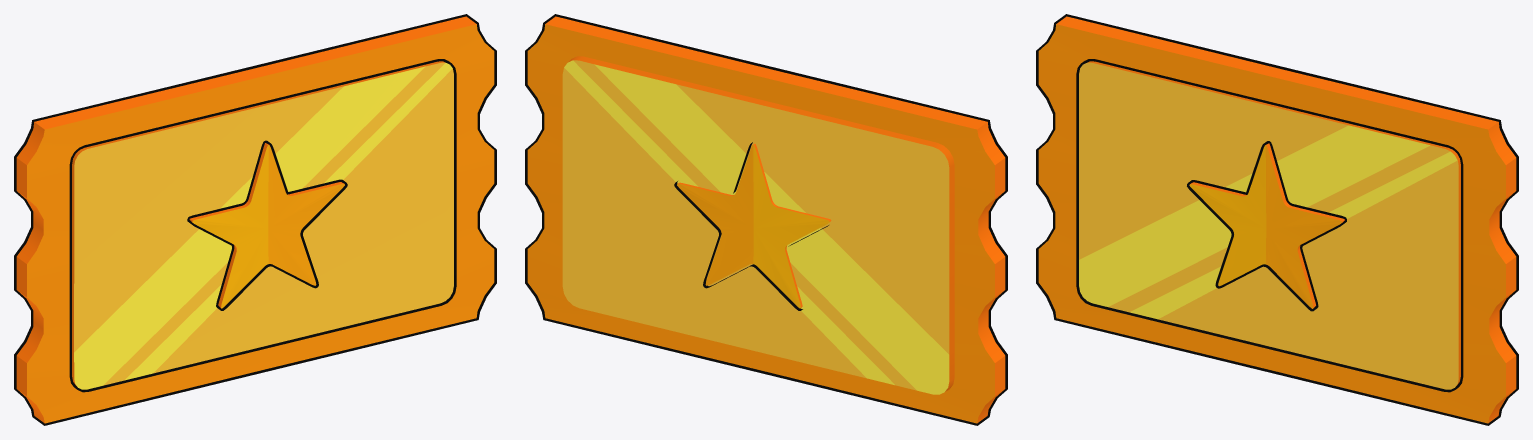
3 views of the same model, side by side, from view 1: azimuth 30°, elevation 25°; view 2: azimuth 150°, elevation 25°; view 3: azimuth 330°, elevation 25° (orthographic).
Parts seen in each view (by area): view 1: Plane_0; view 2: Plane_0; view 3: Plane_0.
Part boxes in pixels (<box>): Plane_0: <box>14,14,496,425</box>; Plane_0: <box>525,14,1007,425</box>; Plane_0: <box>1036,14,1518,425</box>.
Bounding box in the file's own units: 1.99 × 1.2 × 0.1955.
Materials: 2 (1 with a texture image).
